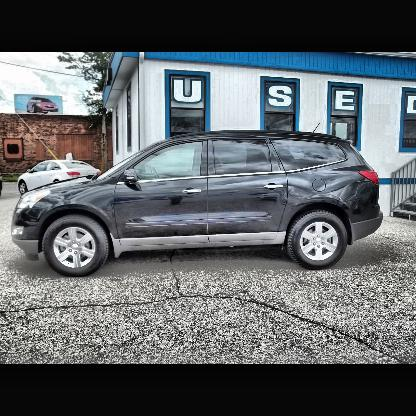Chevrolet Traverse SUV 2012: (9, 129, 384, 272)
